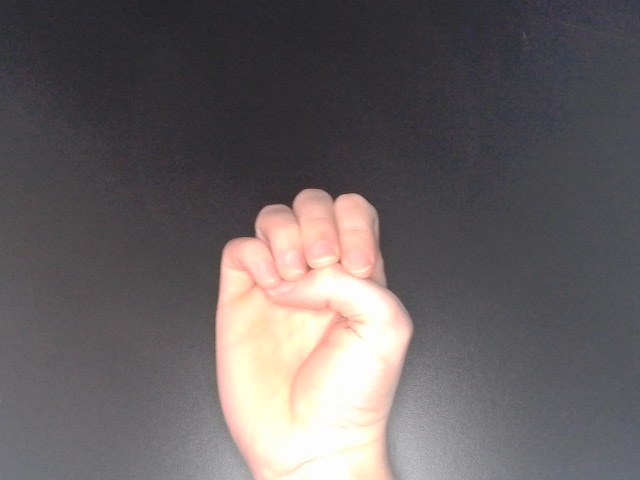e: (205, 183, 419, 477)
